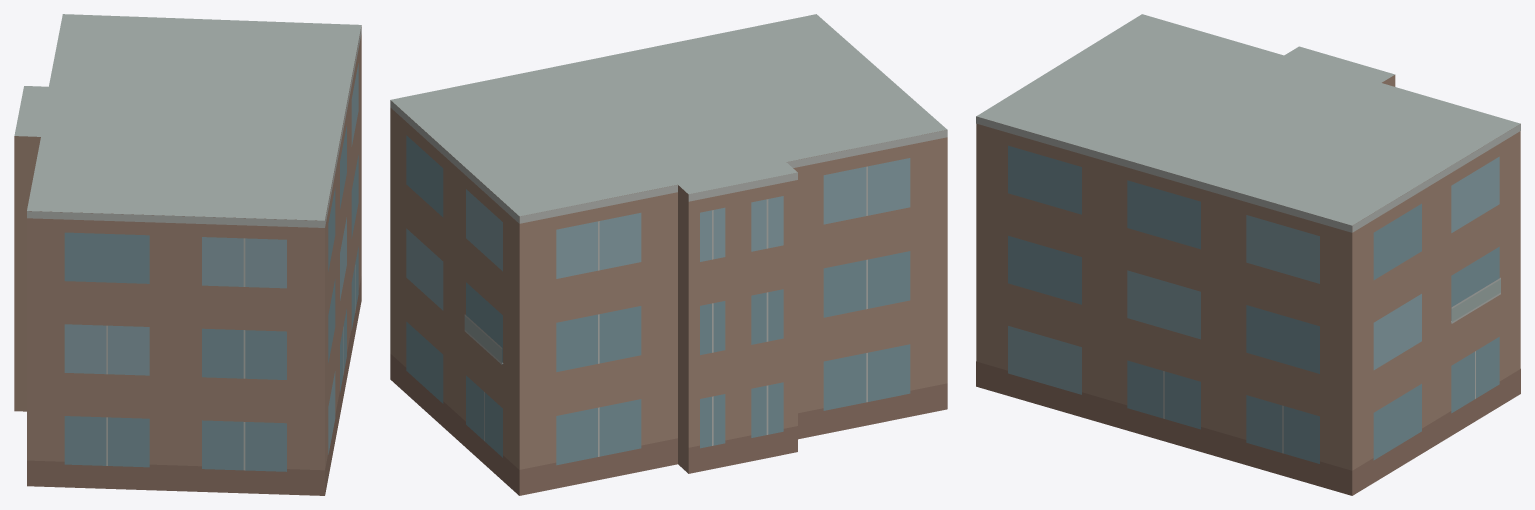
Rendered from survey-upis-32700478.glb.
The picture shows the model from 3 angles, left to right: view 1: azimuth 30°, elevation 25°; view 2: azimuth 150°, elevation 25°; view 3: azimuth 270°, elevation 25°; orthographic projection. The views are drawn at different scales.
Parts seen in each view (by area): view 1: survey-upis-32700478.tmp; view 2: survey-upis-32700478.tmp; view 3: survey-upis-32700478.tmp.
Part boxes in pixels (x1,y1,x2,y2): survey-upis-32700478.tmp: [14, 14, 361, 495]; survey-upis-32700478.tmp: [390, 14, 947, 495]; survey-upis-32700478.tmp: [976, 14, 1520, 495].
Size of the model in its own units: 15.38 by 9.15 by 16.72.
